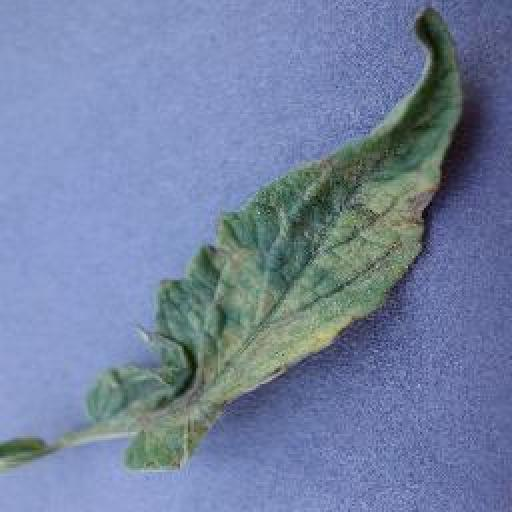disease_tomato: (88, 0, 462, 474)
